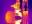Hotspot: (15, 10, 22, 17), (15, 20, 22, 23)
